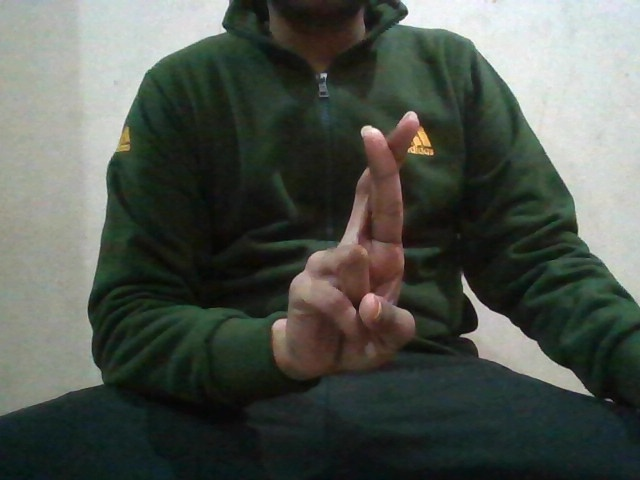R: (291, 109, 431, 383)
